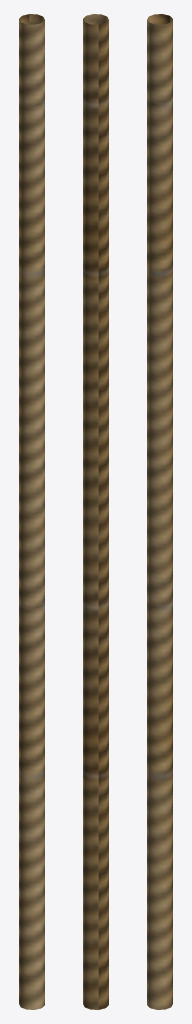
Rendered from P_Modul_26_Rope.obj.
3 renders of one model, left to right at view 1: azimuth 30°, elevation 25°; view 2: azimuth 210°, elevation 25°; view 3: azimuth 330°, elevation 25°, orthographic.
Parts seen in each view (by area): view 1: P_Modul_26_Rope; view 2: P_Modul_26_Rope; view 3: P_Modul_26_Rope.
Part boxes in pixels (bbox=[...]): P_Modul_26_Rope: bbox=[19, 14, 44, 1009]; P_Modul_26_Rope: bbox=[83, 14, 108, 1009]; P_Modul_26_Rope: bbox=[147, 14, 172, 1009].
Bounding box in the file's own units: 0.3 × 12.5 × 0.2853.
